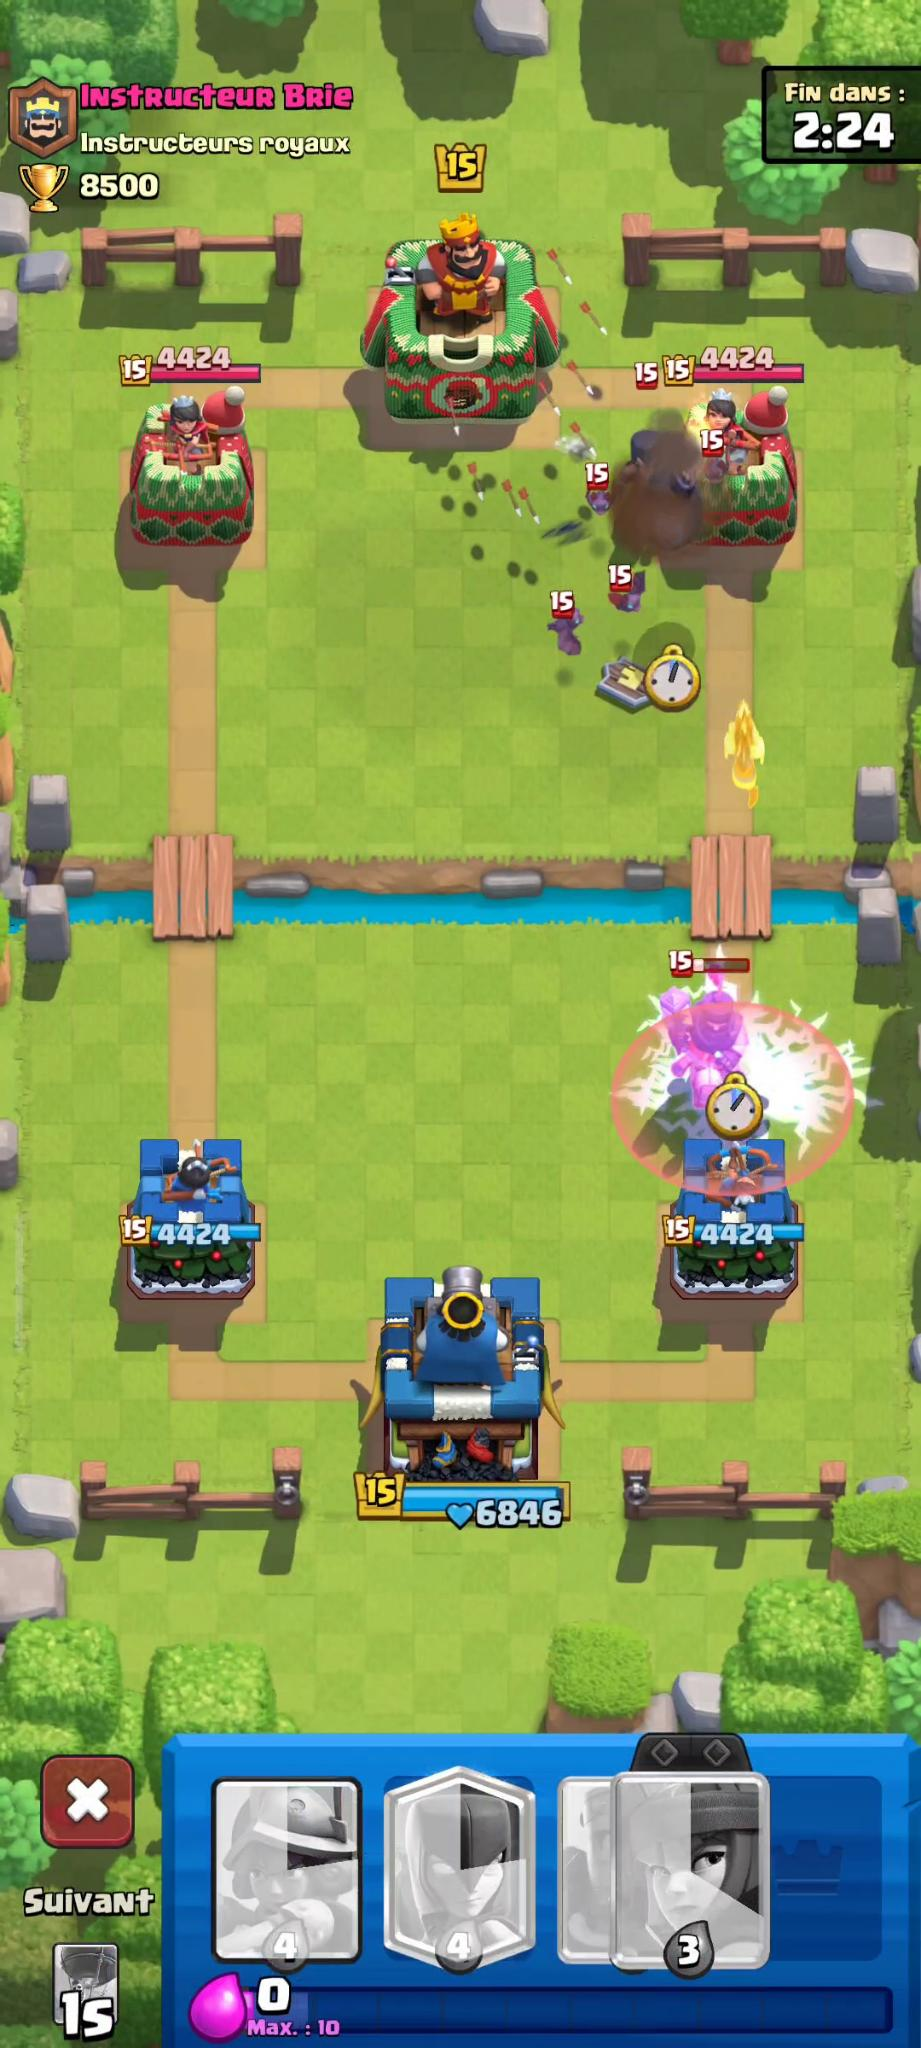bat: (533, 579, 597, 670), (602, 559, 657, 616), (577, 464, 621, 520)
